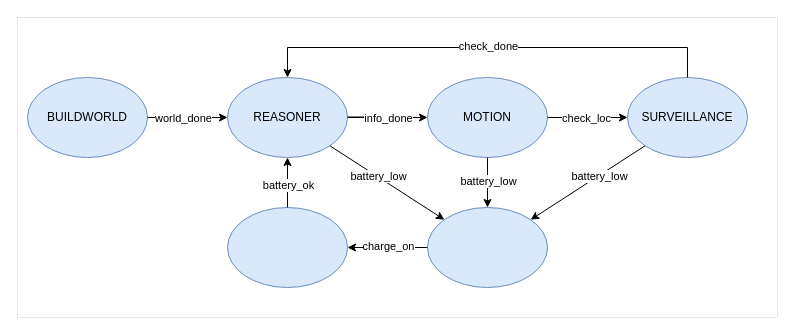
The diagram is 794 pixels wide and 334 high, and some of its shapes have lost their labels. The shapes that lost their labels are listed below. From the top down, each one's centre as x and y in pixels, then its label:
At [287,247]: "CHARGE".
At [487,247]: "REACHCHARGE".
